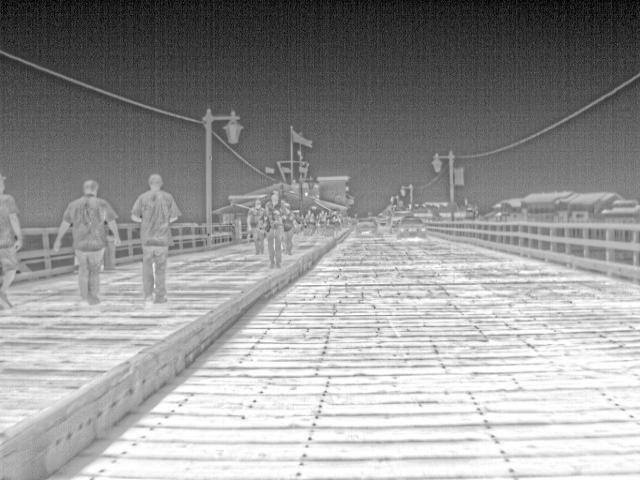car: (396, 218, 430, 239), (390, 209, 417, 235), (357, 218, 378, 234)
person: (55, 179, 126, 306), (129, 174, 182, 304), (3, 176, 24, 312), (266, 193, 289, 269), (249, 198, 267, 254), (302, 209, 317, 236), (330, 210, 343, 238)
